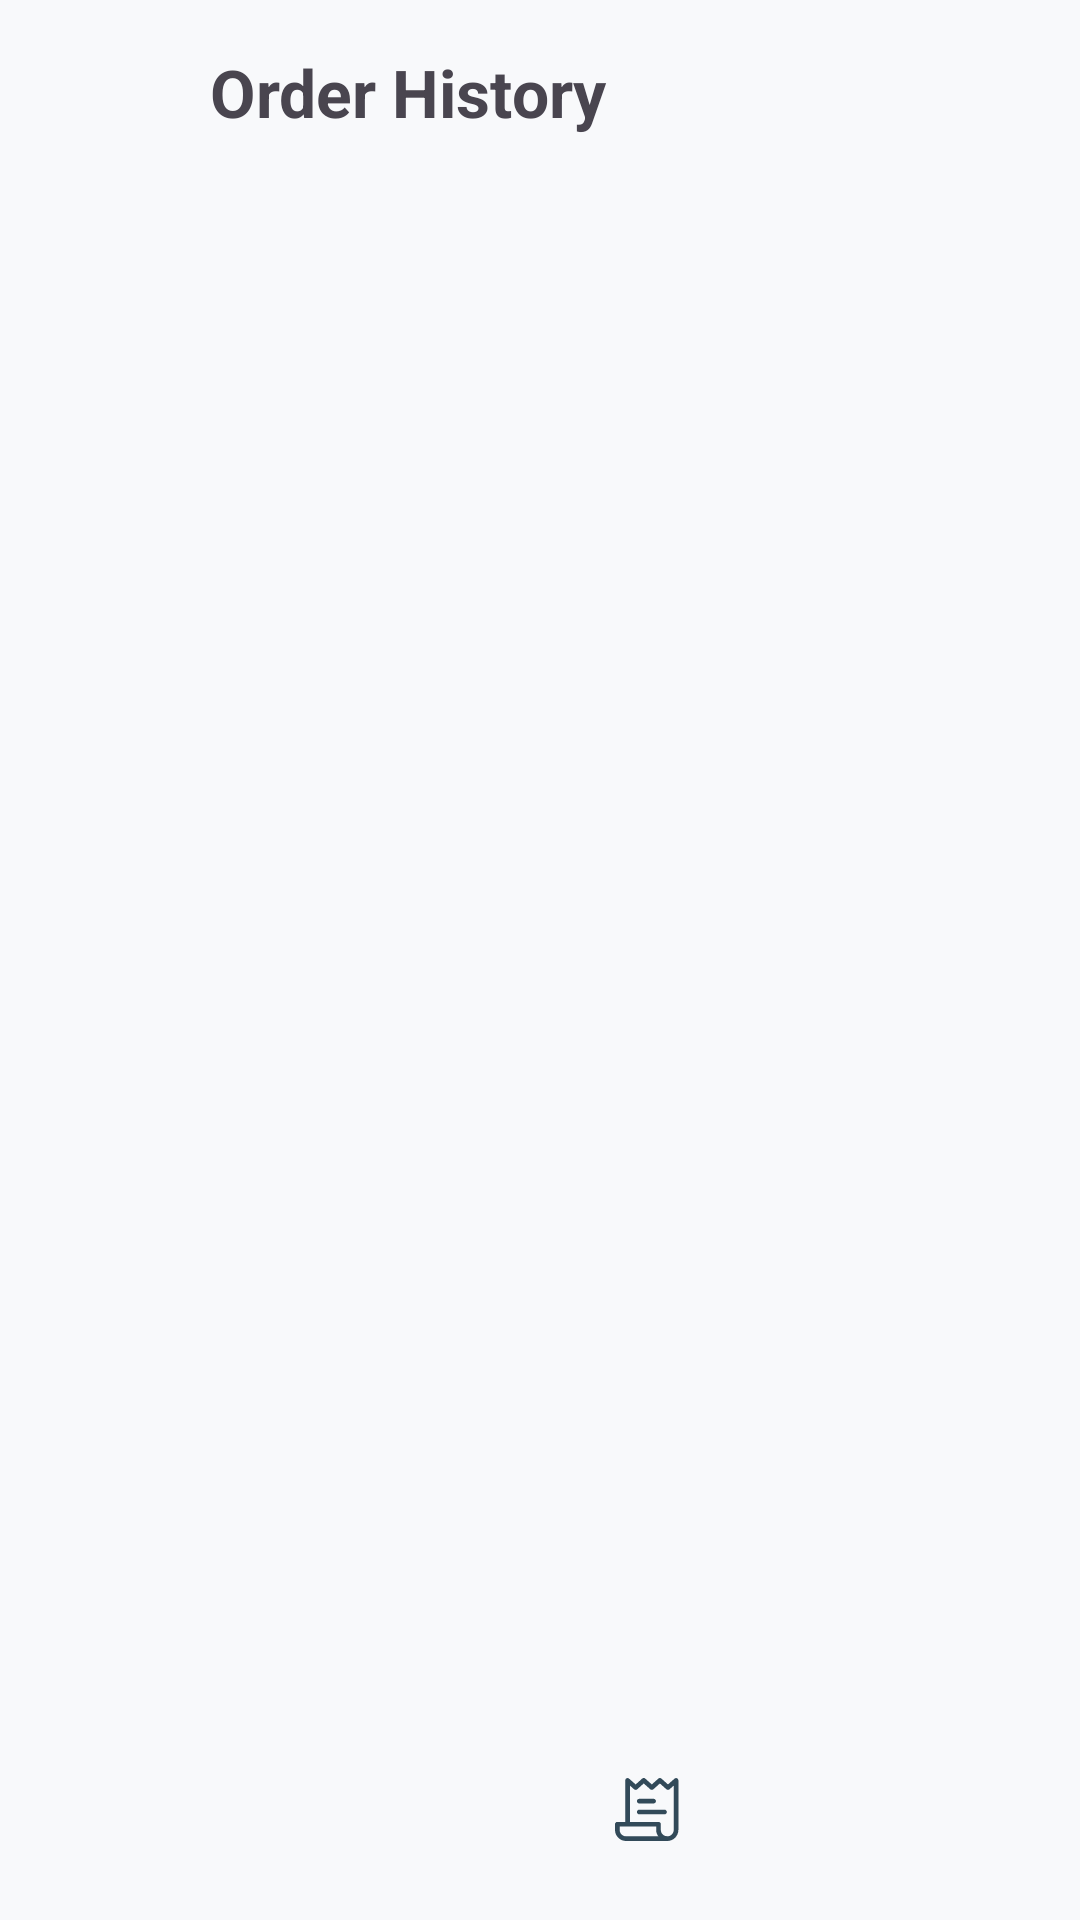

Icons on this 1080 x 1920 Android screen, each with its box as (x1, y1, x2, y2):
orders: (615, 1778, 679, 1841)
